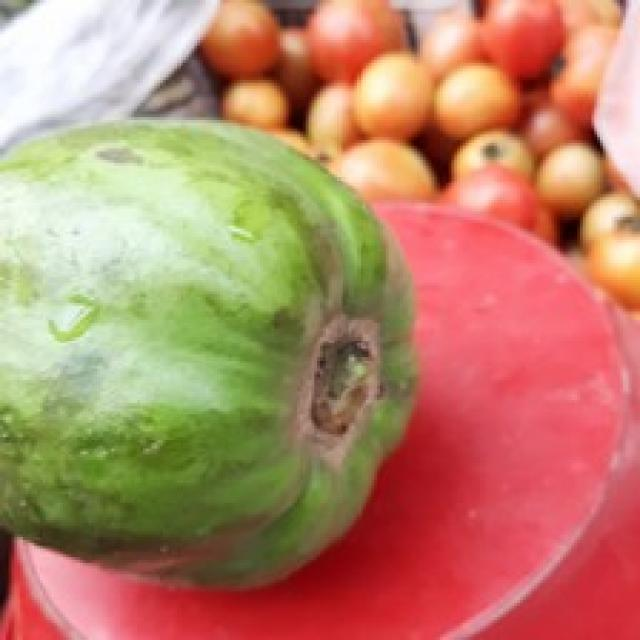Pepaya unrippen: (1, 115, 442, 600)
